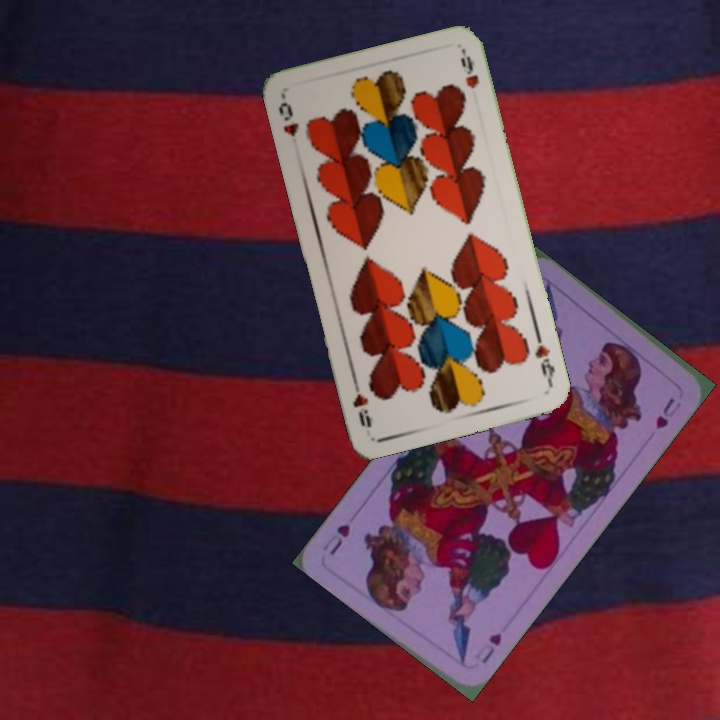H9: (531, 341, 558, 388), (274, 98, 301, 139)
HU: (471, 628, 505, 667)
